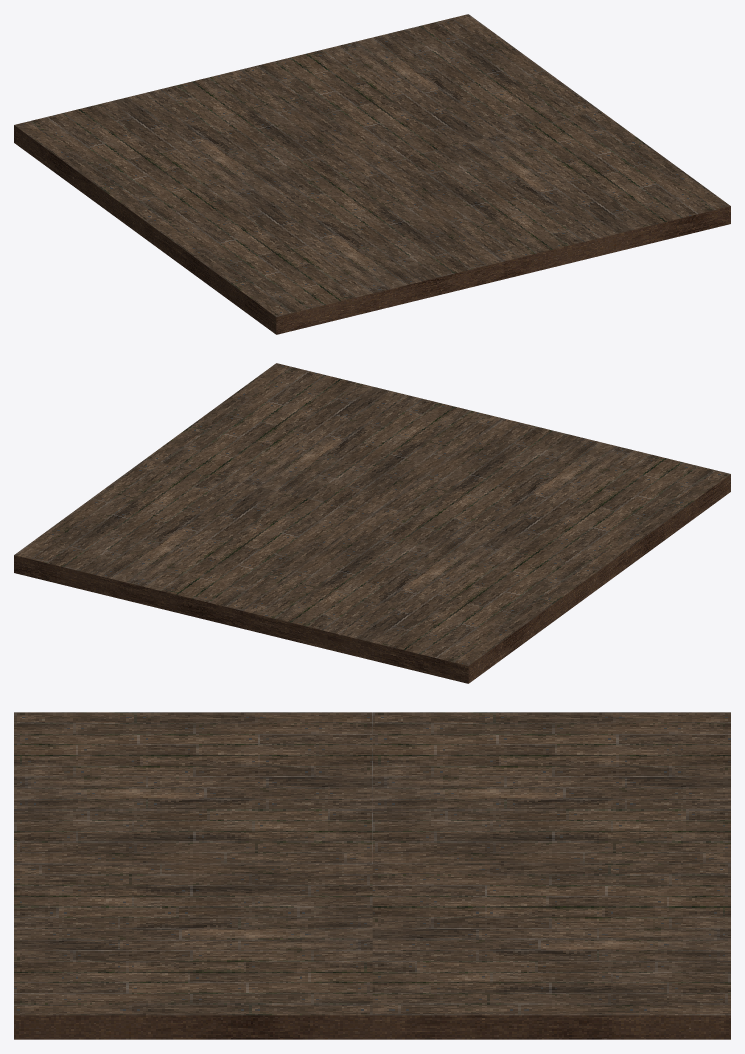
The model's file is floor_4x4.glb.
3 renders of one model, top to bottom at view 1: azimuth 30°, elevation 25°; view 2: azimuth 150°, elevation 25°; view 3: azimuth 270°, elevation 25°, orthographic. The views are drawn at different scales.
Visible parts, largest first — view 1: floor_4x42; view 2: floor_4x42; view 3: floor_4x42.
Part boxes in pixels (bbox=[...]): floor_4x42: bbox=[14, 14, 730, 334]; floor_4x42: bbox=[14, 363, 730, 683]; floor_4x42: bbox=[14, 712, 730, 1039].
Bounding box in the file's own units: 4 × 0.15 × 4.
Materials: 1 (1 with a texture image).
